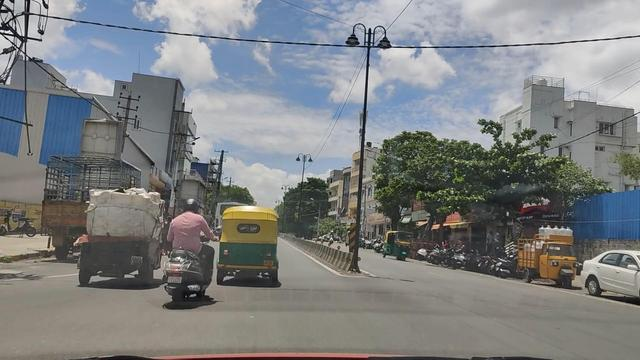LMV: (85, 190, 162, 287), (223, 203, 282, 291), (169, 200, 214, 302)
